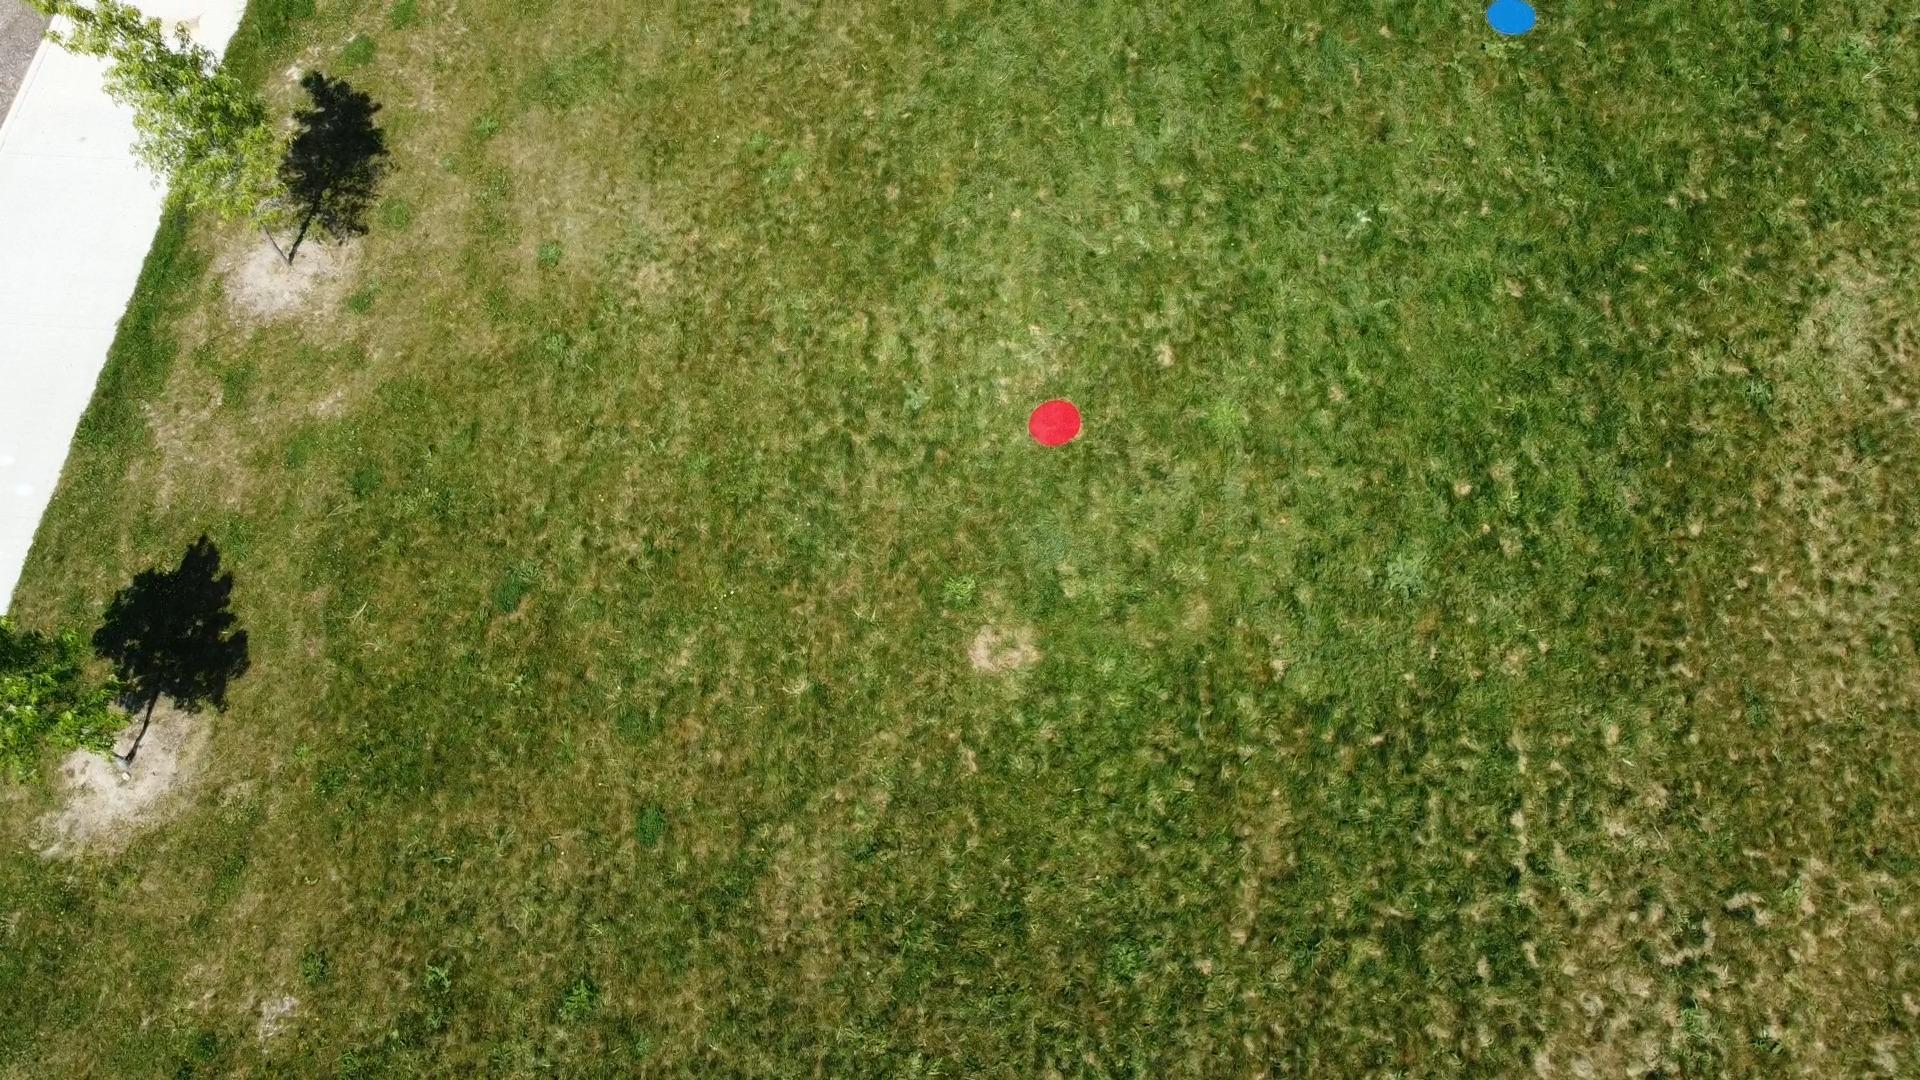Blue: (1485, 0, 1542, 37)
Red: (1026, 394, 1085, 451)
